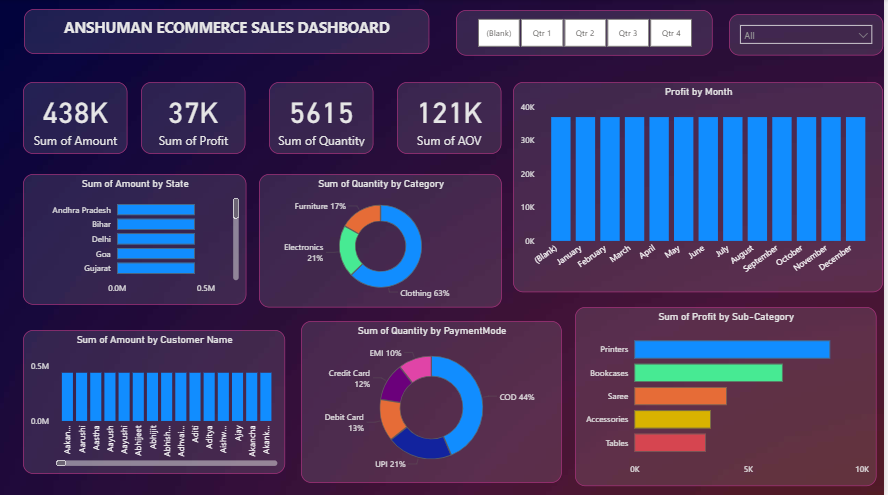

What the dashboard file says about the page in this screenshot:
{"tool":"powerbi","page":{"name":"Page 1","canvas":[1280,720],"ordinal":0},"visuals":[{"type":"clusteredColumnChart","title":"Profit by Month","fields":{"Y":["Sum(Details.Profit)"],"Category":["Orders (2).Order Date.Variation.Date Hierarchy.Month"]},"box":[745,120,535,303.8],"z":0},{"type":"barChart","fields":{"Category":["Details.Sub-Category"],"Y":["Sum(Details.Profit)"]},"box":[834.3,445.7,435.7,258.6],"z":1000},{"type":"donutChart","fields":{"Y":["Sum(Details.Quantity)"],"Category":["Details.Category"]},"box":[377.1,252.9,351.4,192.9],"z":2000},{"type":"donutChart","fields":{"Y":["Sum(Details.Quantity)"],"Category":["Details.PaymentMode"]},"box":[438.6,465.7,377.1,234.3],"z":3000},{"type":"card","fields":{"Values":["Sum(Details.Amount)"]},"box":[35.7,120,151.4,104.3],"z":4000},{"type":"card","fields":{"Values":["Sum(Details.Quantity)"]},"box":[391.4,120,151.4,104.3],"z":5000},{"type":"card","fields":{"Values":["Sum(Details.Profit)"]},"box":[207.1,120,151.4,104.3],"z":6000},{"type":"card","fields":{"Values":["Sum(Details.AOV)"]},"box":[577.5,120,151.2,103.8],"z":7000},{"type":"barChart","fields":{"Category":["Orders (2).State"],"Y":["Sum(Details.Amount)"]},"box":[35.7,252.9,322.9,188.6],"z":8000},{"type":"columnChart","fields":{"Category":["Orders (2).Customer Date"],"Y":["Sum(Details.Amount)"]},"box":[36.2,478.8,378.8,207.5],"z":9000},{"type":"textbox","box":[37.5,15,586.2,65],"z":10000},{"type":"slicer","fields":{"Values":["Orders (2).Order Date.Variation.Date Hierarchy.Quarter"]},"box":[662.9,15.7,371.4,65.7],"z":11000},{"type":"slicer","fields":{"Values":["Orders (2).State"]},"box":[1057.1,21.4,222.9,60],"z":12000}]}

Visuals, with their boxes in screenshot pixels (x1, y1, x2, y2), scaled from the page's 1280x720 canvas onto the 888x495 screenshot:
"Profit by Month" clusteredColumnChart: <bbox>517, 82, 887, 291</bbox>
barChart - Details.Sub-Category x Sum(Details.Profit): <bbox>579, 306, 881, 484</bbox>
donutChart - Sum(Details.Quantity) x Details.Category: <bbox>262, 174, 505, 306</bbox>
donutChart - Sum(Details.Quantity) x Details.PaymentMode: <bbox>304, 320, 566, 481</bbox>
card - Sum(Details.Amount): <bbox>25, 82, 130, 154</bbox>
card - Sum(Details.Quantity): <bbox>272, 82, 377, 154</bbox>
card - Sum(Details.Profit): <bbox>144, 82, 249, 154</bbox>
card - Sum(Details.AOV): <bbox>401, 82, 506, 154</bbox>
barChart - Orders (2).State x Sum(Details.Amount): <bbox>25, 174, 249, 304</bbox>
columnChart - Orders (2).Customer Date x Sum(Details.Amount): <bbox>25, 329, 288, 472</bbox>
textbox: <bbox>26, 10, 433, 55</bbox>
slicer - Orders (2).Order Date.Variation.Date Hierarchy.Quarter: <bbox>460, 11, 718, 56</bbox>
slicer - Orders (2).State: <bbox>733, 15, 887, 56</bbox>
